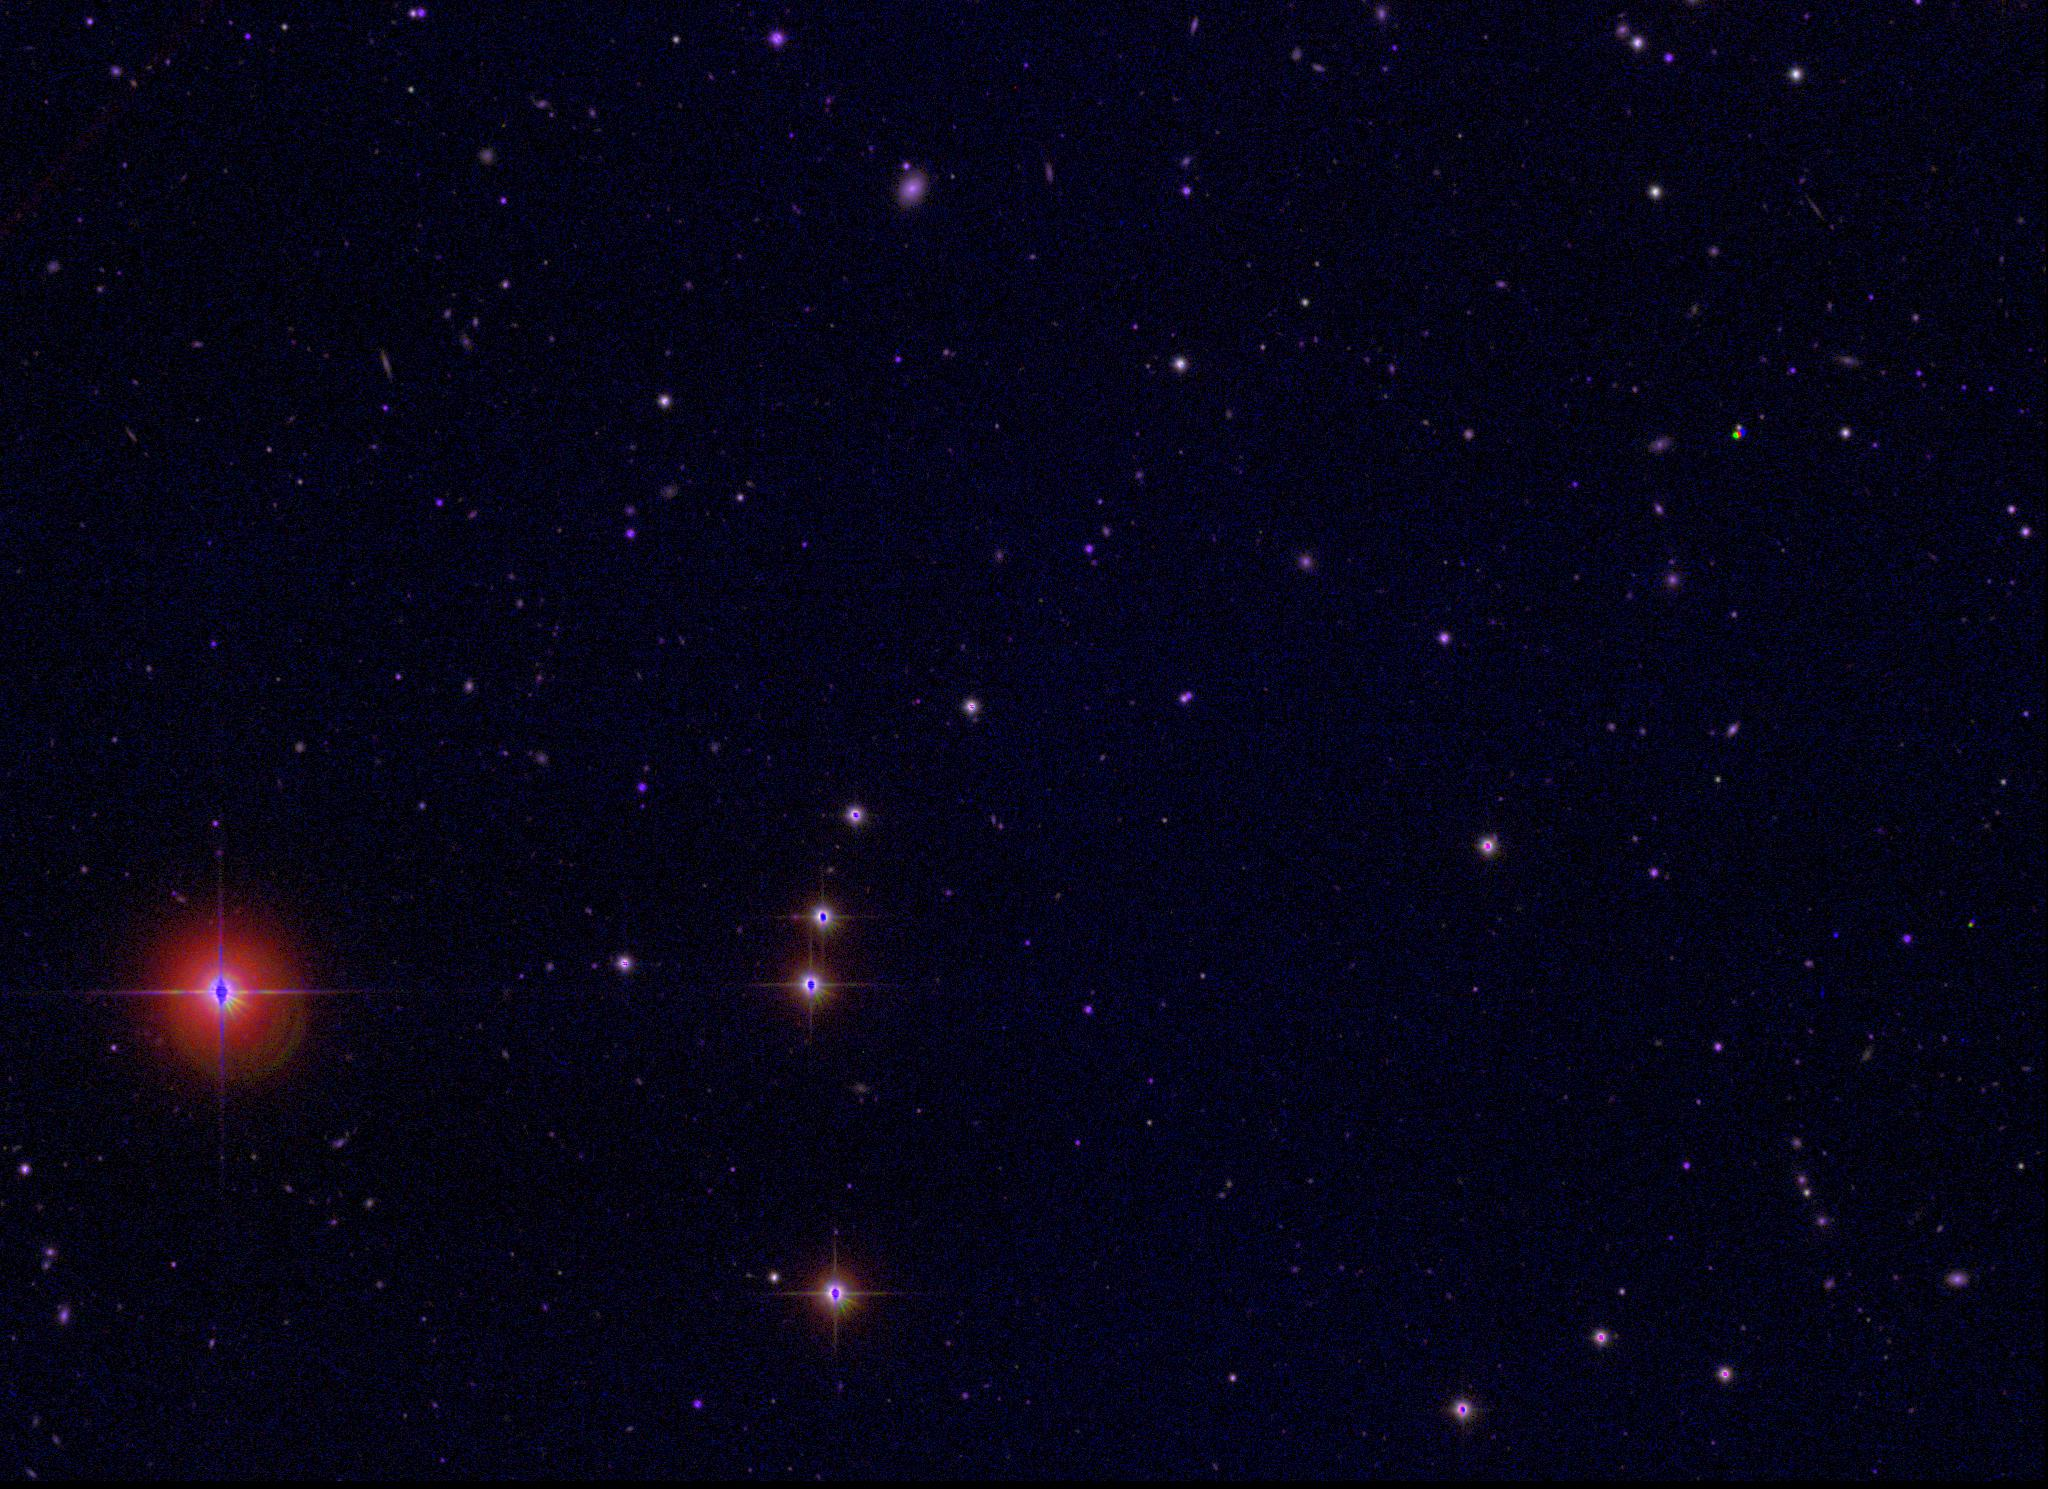L: (1832, 929, 1844, 943)
